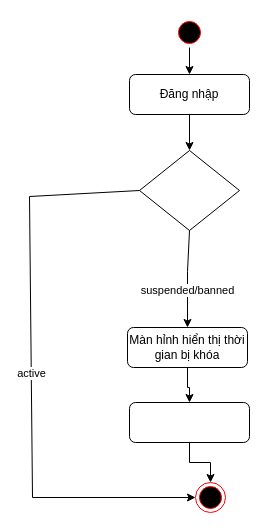
This 267x530 diagram has some shape labels left out. Here are the shapes that lost their labels. From the top down, the centre of each, then its label:
point (189, 190): Trạng thái tài khoản
point (189, 422): Gửi đơn khướu nại
